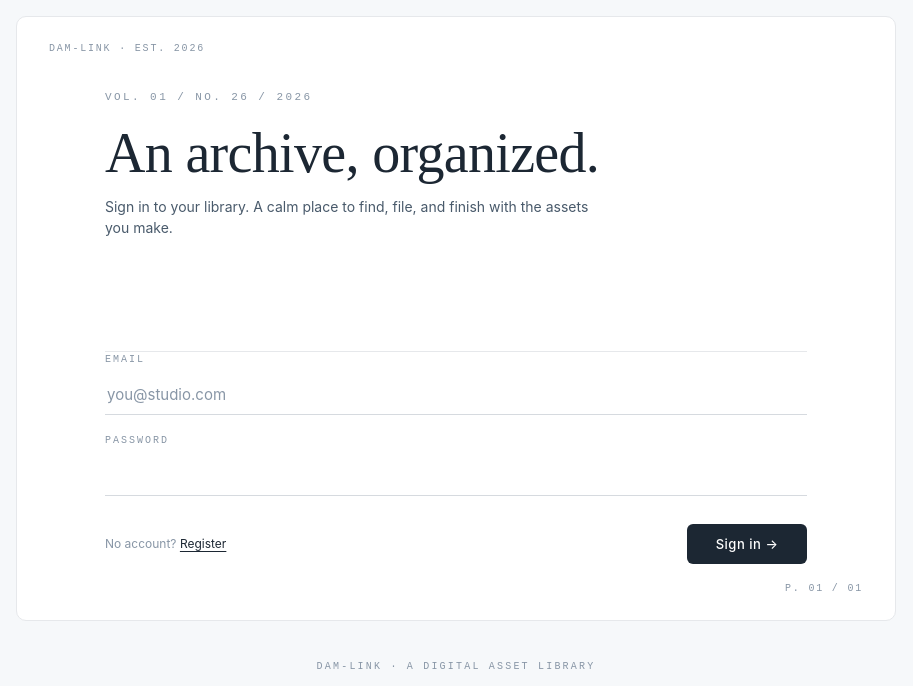
LoginScreen client-side validation (T3) › blocks submit on invalid email format
Type "not-an-email" into the field labelled "Email".
click(456, 395); type("not-an-email")  # box [105,375,807,415]
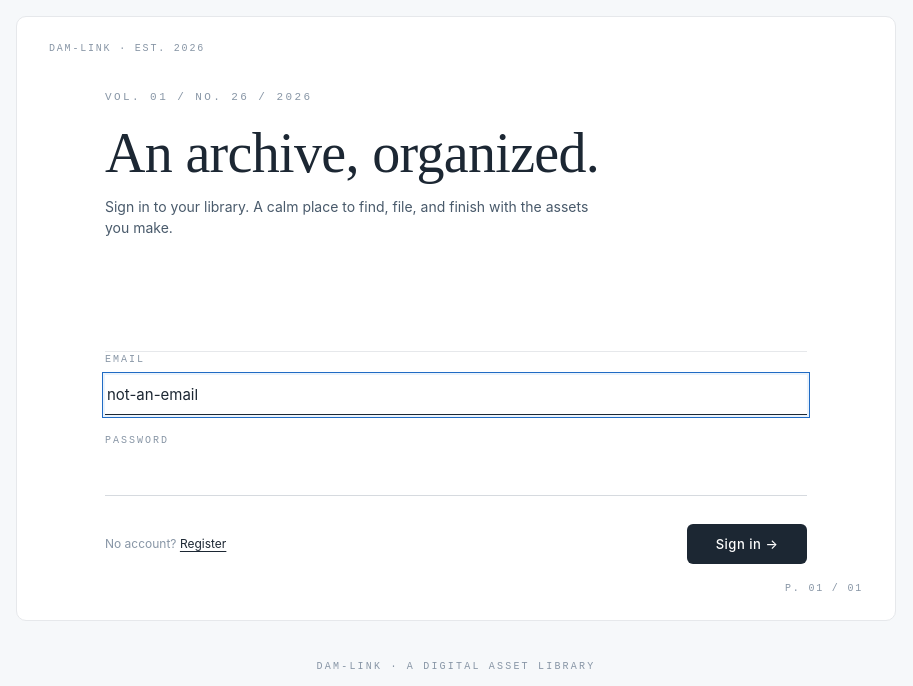
Type "longenoughpassword" into the password field labelled "Password".
click(456, 476); type("longenoughpassword")  # box [105,456,807,496]
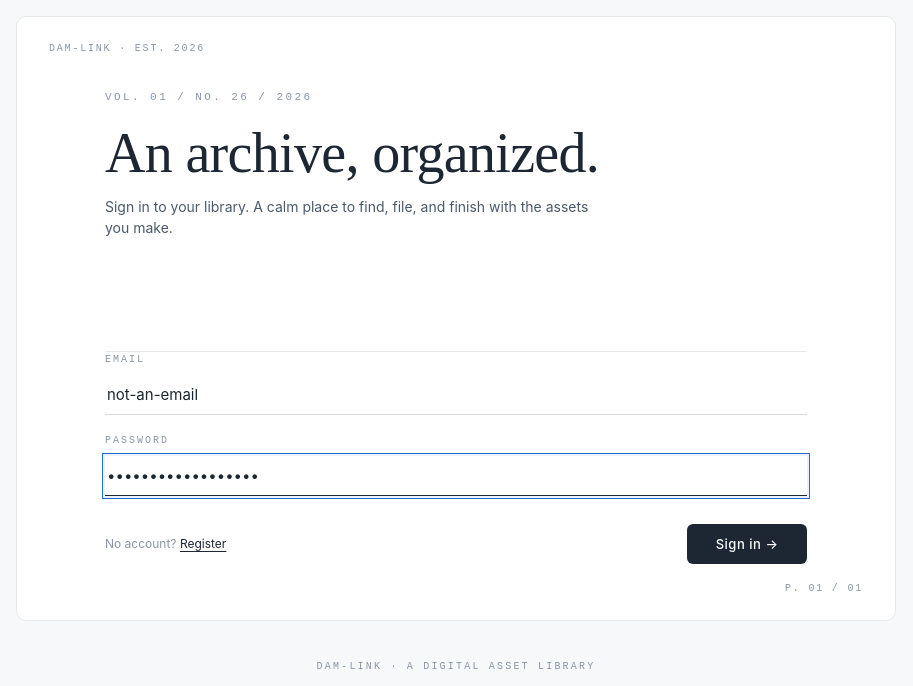
Click the button "Sign in →".
click(747, 544)  # box [687,524,807,564]
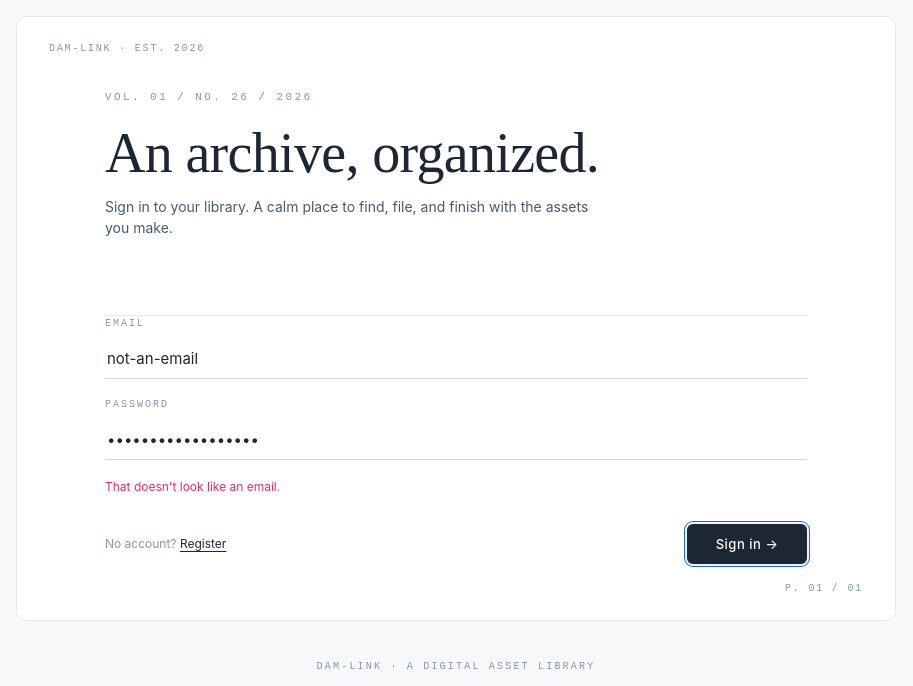
Now the message shows "doesn't look like an email", box [105,479,280,494]
